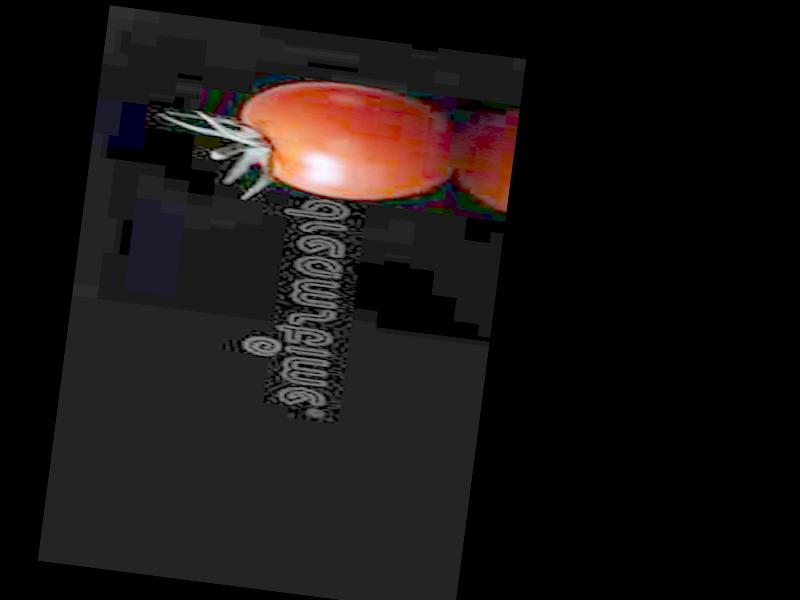Tomato: (231, 71, 457, 211)
